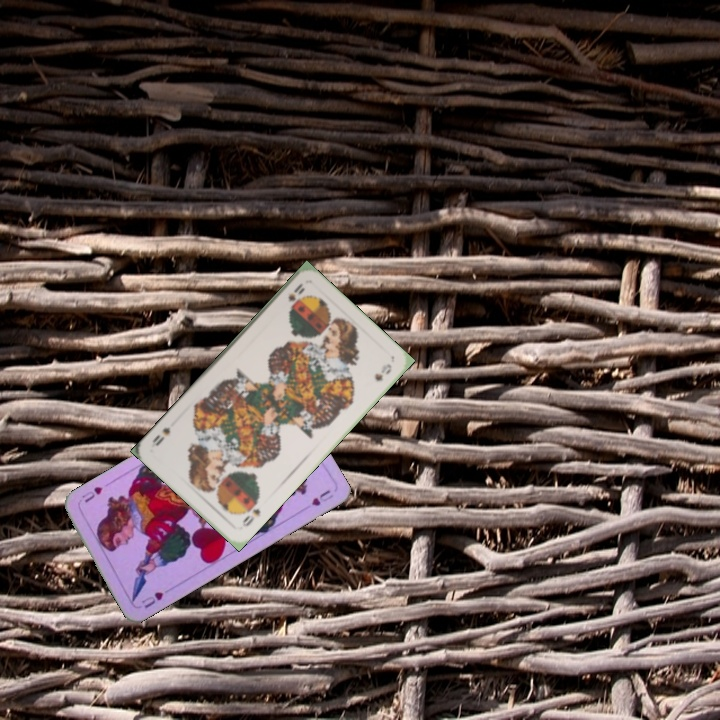HU: (137, 588, 166, 611)
SO: (238, 497, 263, 529), (284, 279, 308, 311)
